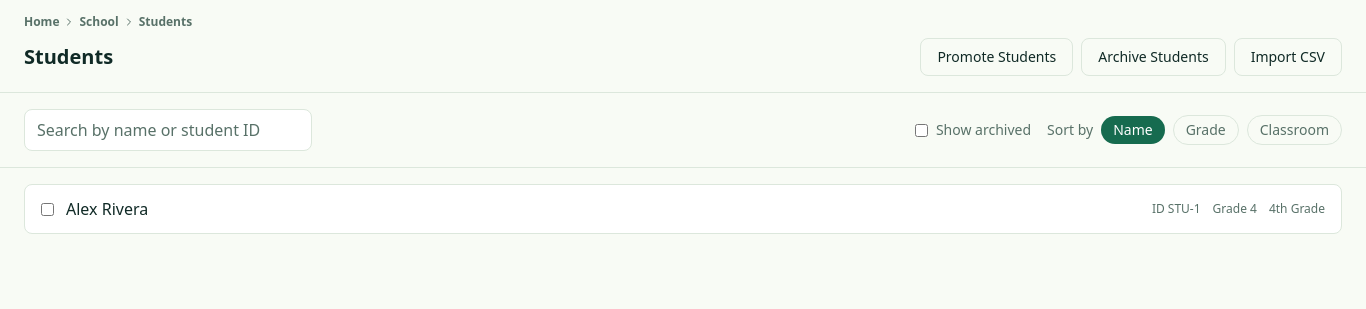
StudentsPage › hides an archived student by default and reveals it via "Show archived"
The width and height of the screenshot is (1366, 309).
Check: the text "Alex Rivera" is shown, box [66,197,148,221]
Check: the text "Jamie Chen" is not shown
Click the checkbox labelled "Show archived". click: click(921, 130)
box: [915,124,928,136]
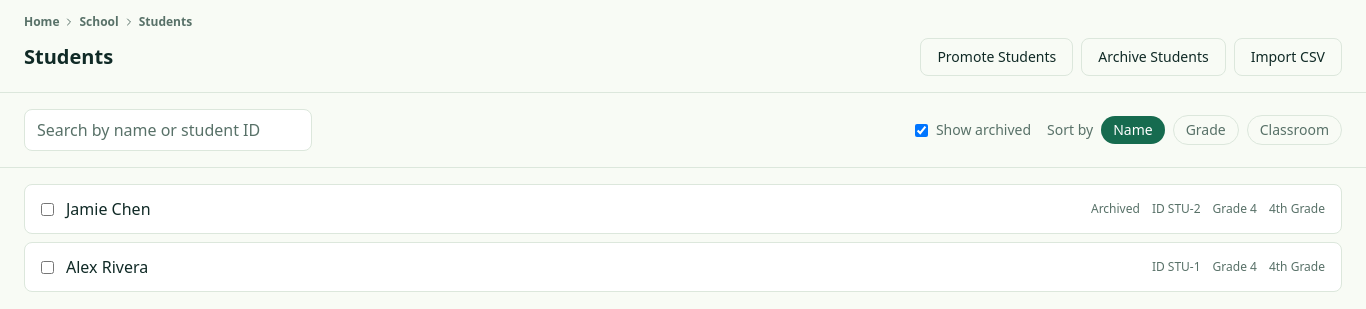
Check: the text "Jamie Chen" is shown, box [66,197,150,221]
